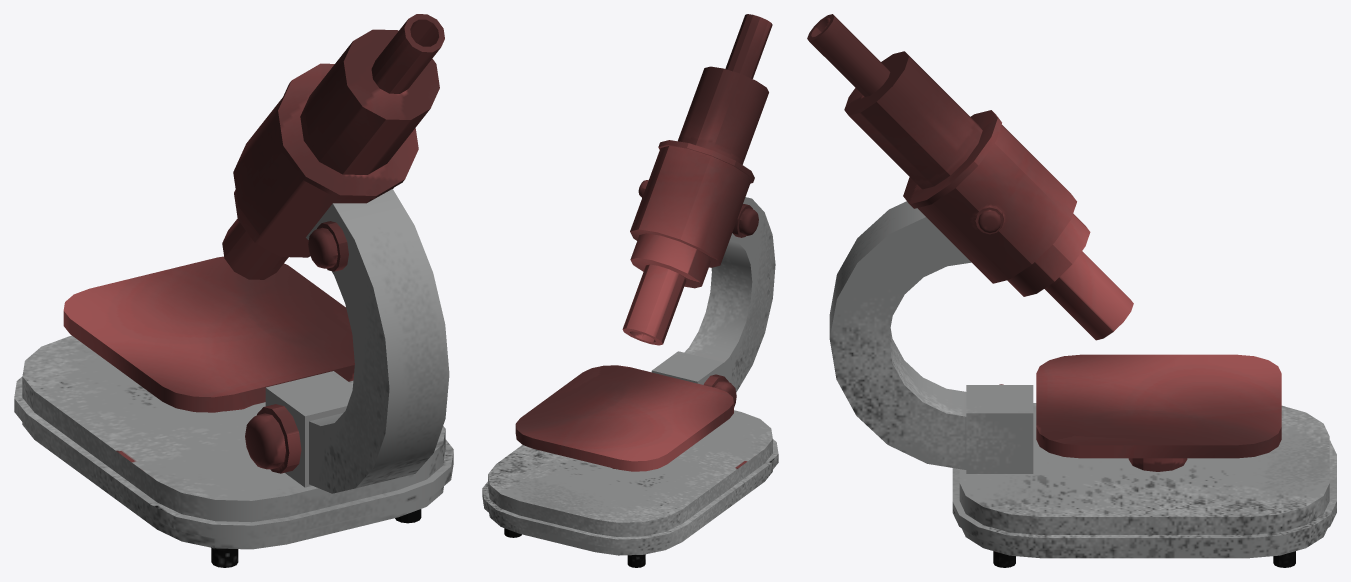
File: Prop_Micro_Scope.fbx
3 renders of one model, left to right at view 1: azimuth 30°, elevation 25°; view 2: azimuth 150°, elevation 25°; view 3: azimuth 270°, elevation 25°, orthographic. The views are drawn at different scales.
Parts seen in each view (by area): view 1: Micro_Scope; view 2: Micro_Scope; view 3: Micro_Scope.
Boxes of the visible parts, x1=… form: Micro_Scope: x1=14, y1=14, x2=453, y2=567; Micro_Scope: x1=482, y1=14, x2=778, y2=567; Micro_Scope: x1=807, y1=14, x2=1336, y2=567.
Bounding box in the file's own units: 26.56 × 52.31 × 49.35.
